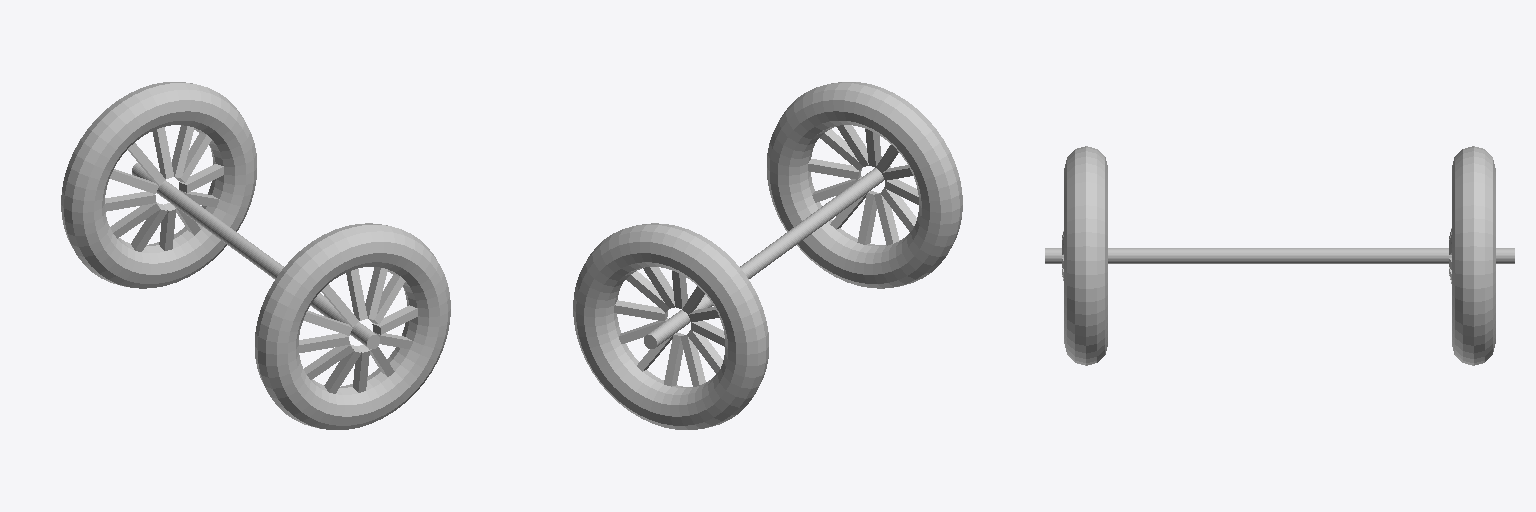
File: cannonwheels.obj
3 views of the same model, side by side, from view 1: azimuth 30°, elevation 25°; view 2: azimuth 150°, elevation 25°; view 3: azimuth 270°, elevation 25° (orthographic).
Visible parts, largest first — view 1: Cylinder; view 2: Cylinder; view 3: Cylinder.
Part boxes in pixels (x1,y1,x2,y2): Cylinder: (61, 82, 450, 429); Cylinder: (573, 82, 962, 429); Cylinder: (1045, 146, 1514, 365).
Size of the model in its own units: 2.5 by 2.5 by 5.35.